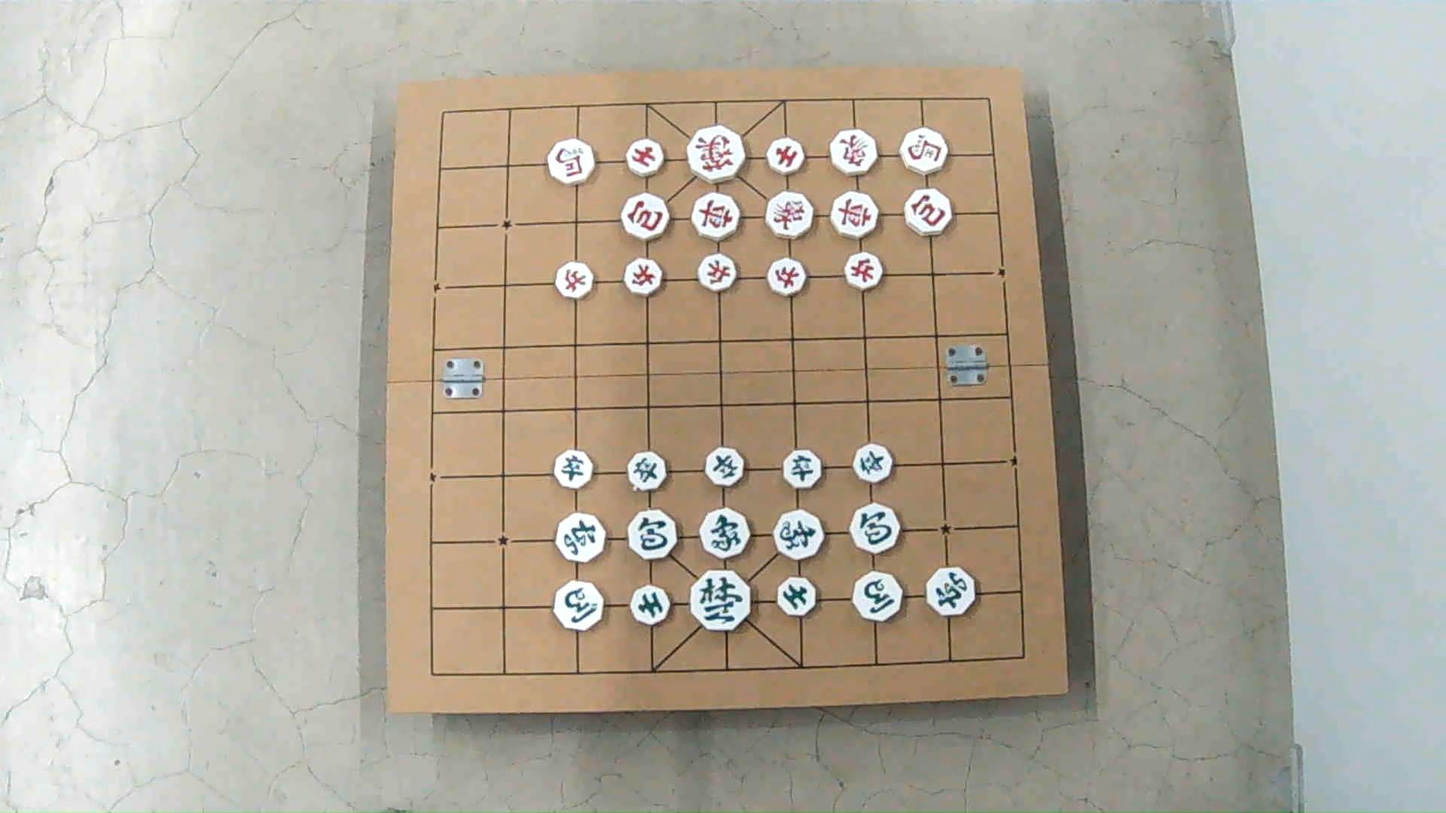cha_green: (555, 513, 606, 562), (926, 567, 975, 616)
cha_red: (692, 193, 739, 240), (831, 192, 877, 238)
jol_green: (783, 449, 822, 489), (853, 444, 892, 483), (627, 452, 666, 491), (554, 449, 591, 489), (705, 448, 743, 486)
jol_red: (844, 252, 883, 290), (697, 254, 736, 291), (555, 262, 593, 299), (624, 258, 662, 295), (768, 258, 805, 295)
ma_green: (554, 581, 603, 630), (853, 572, 901, 621)
ma_red: (900, 128, 947, 174), (548, 139, 594, 184)
po_green: (628, 510, 677, 560), (850, 504, 899, 553)
po_red: (621, 193, 668, 241), (905, 189, 951, 236)
sa_green: (631, 585, 669, 625), (777, 577, 816, 615)
sa_red: (625, 139, 664, 176), (767, 138, 805, 175)
sang_green: (700, 508, 750, 559), (773, 510, 823, 560)
sang_red: (766, 191, 813, 238), (830, 129, 877, 175)
wang_green: (691, 569, 751, 632)
wang_red: (688, 126, 743, 182)
